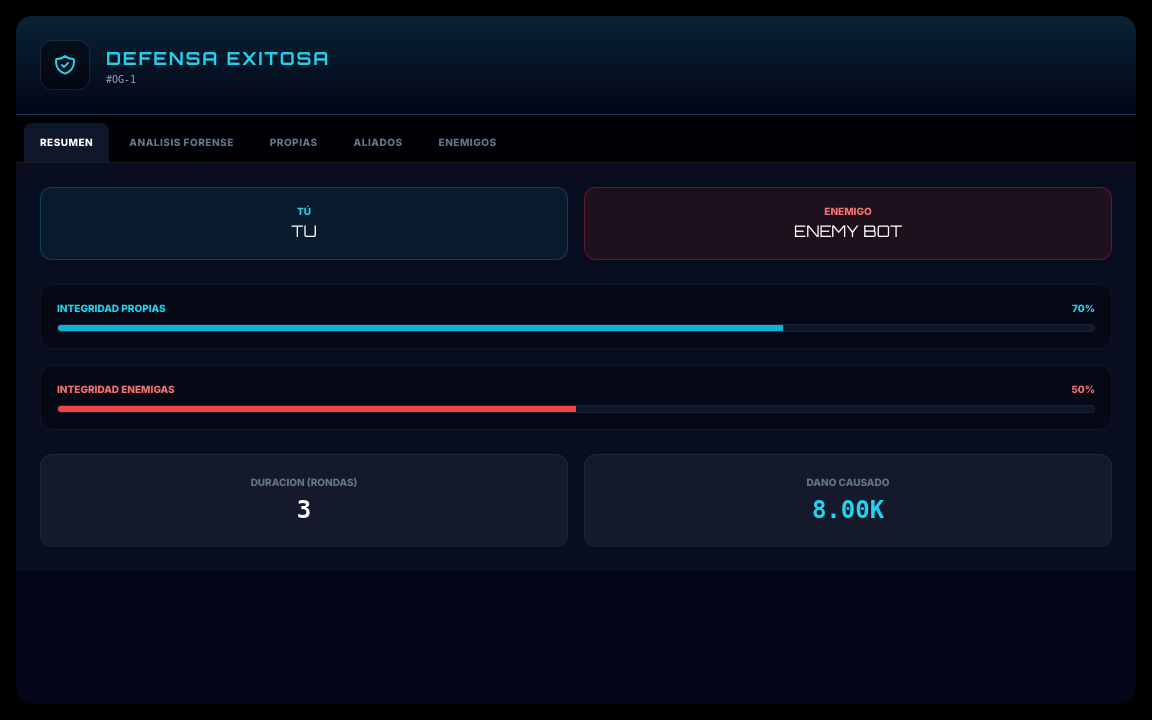
Test case: Combat Report Modal - Integration Tests › Tab Navigation and Content › should show no allies message when no allies present
// Navigate to allies tab
Click the button "Aliados".
click(378, 142)  # box [338,123,419,162]
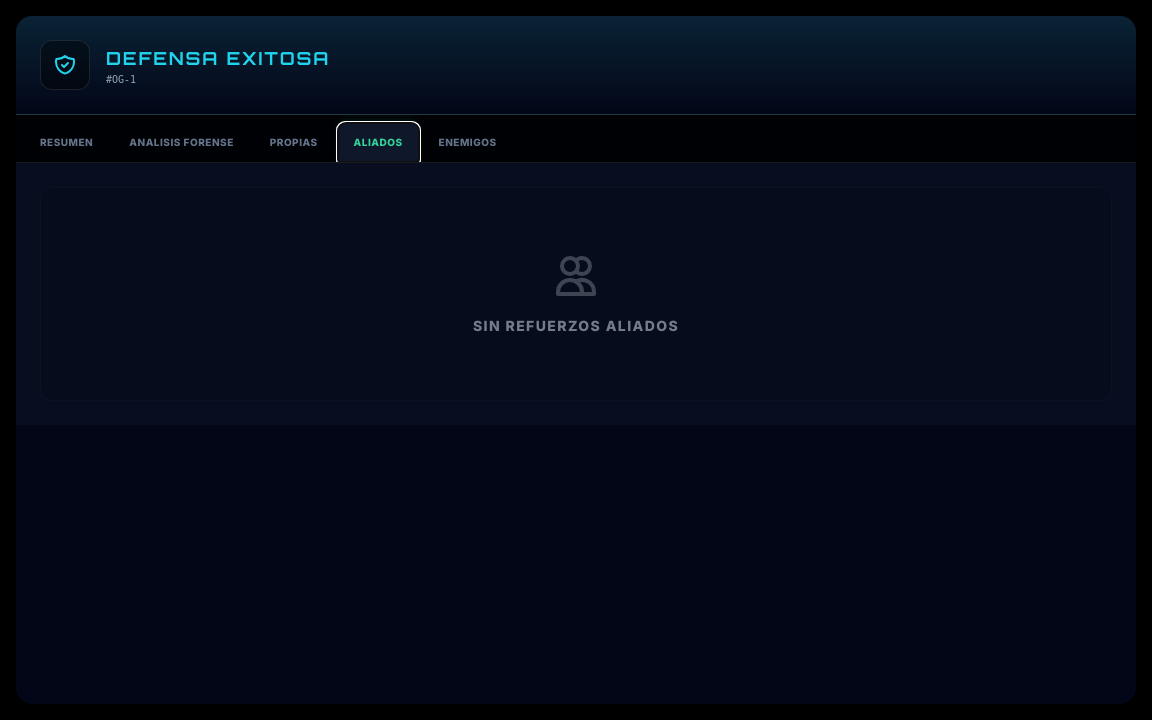
Check: the text "Sin Refuerzos Aliados" is shown, box [473,316,679,336]
